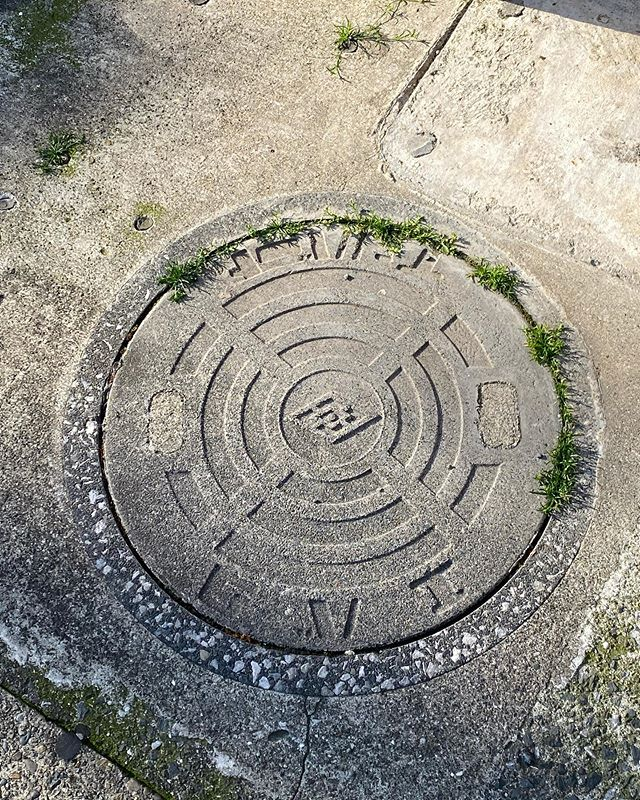manhole cover: (61, 196, 601, 744)
